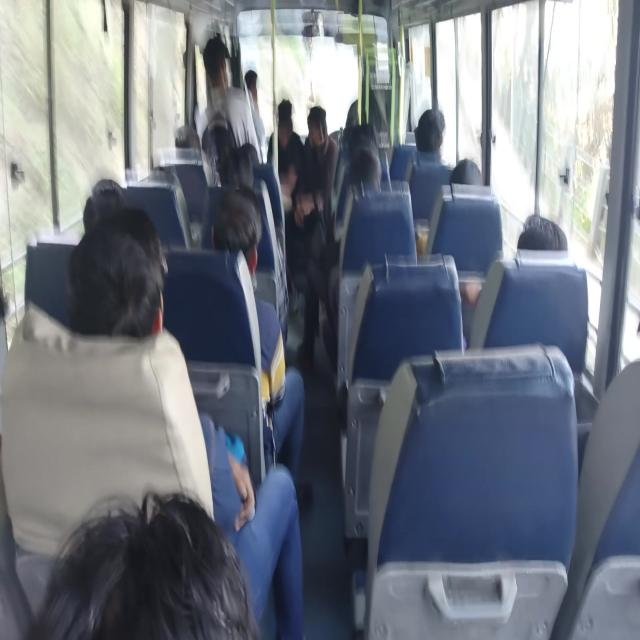person: (66, 206, 304, 638), (28, 489, 260, 639), (211, 186, 305, 496), (460, 213, 568, 349), (296, 105, 340, 367), (193, 36, 262, 186), (302, 105, 339, 233), (266, 98, 305, 211), (244, 69, 266, 161), (413, 108, 447, 166), (516, 213, 568, 250), (347, 145, 382, 195), (449, 158, 483, 185)
